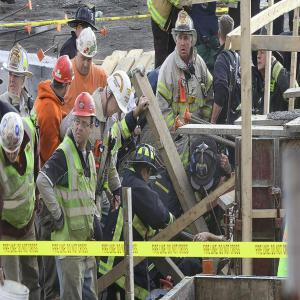none: (219, 14, 235, 47)
red: (73, 93, 97, 146), (53, 57, 74, 95)
white: (104, 71, 132, 115), (2, 114, 24, 161), (7, 46, 28, 94), (77, 30, 98, 72), (176, 14, 195, 59)
